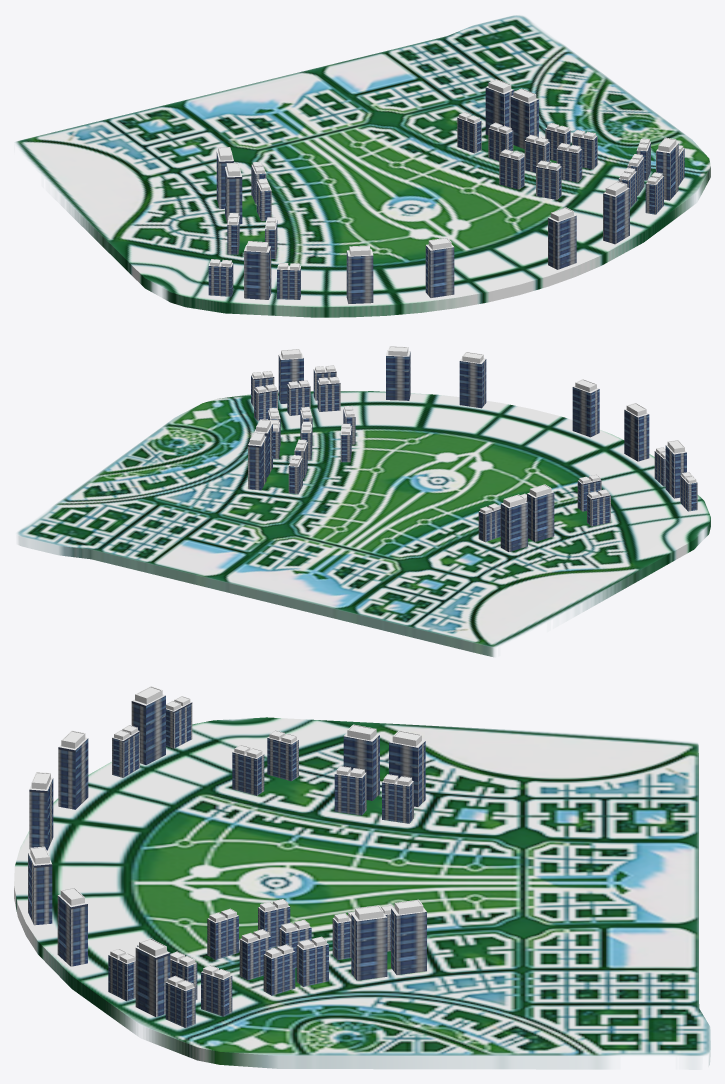
Rendered from downtown.glb.
3 views of the same model, one above another, from view 1: azimuth 30°, elevation 25°; view 2: azimuth 150°, elevation 25°; view 3: azimuth 270°, elevation 25° (orthographic). The views are drawn at different scales.
Size of the model in its own units: 5.58 by 0.6034 by 4.84.
3 materials, 2 textured.
